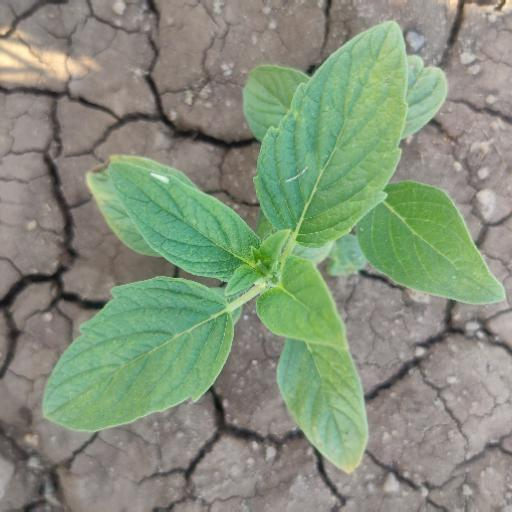crop: (43, 24, 504, 476)
